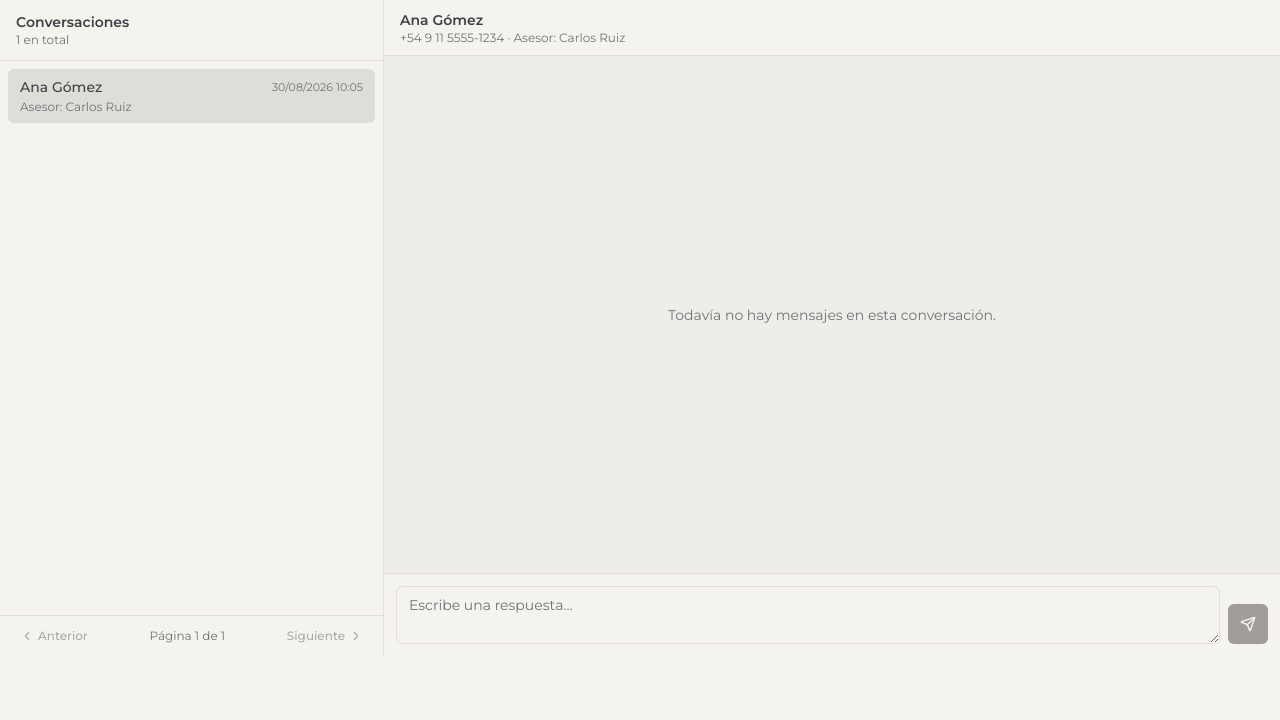
Test case: ConversacionesPage — caja de respuesta › el botón de enviar arranca deshabilitado y se habilita al escribir
Expected: the header with test id "encabezado-conversacion" is shown, top-left (384, 0), bottom-right (1279, 56)
Expected: the button named "Enviar mensaje" is disabled, top-left (1228, 604), bottom-right (1268, 644)
Type "Hola" into the text box named "Escribir mensaje" at (808, 615), box top-left (396, 586), bottom-right (1220, 644)
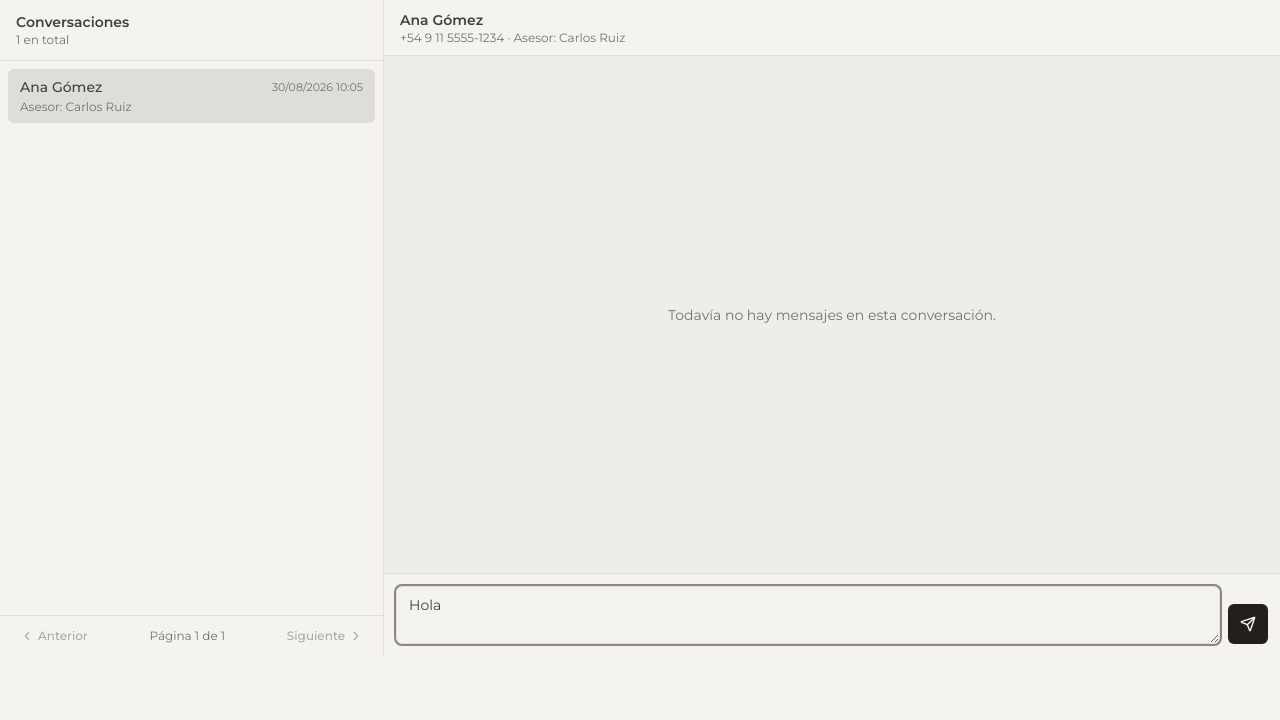
Expected: the button named "Enviar mensaje" is enabled, top-left (1228, 604), bottom-right (1268, 644)
